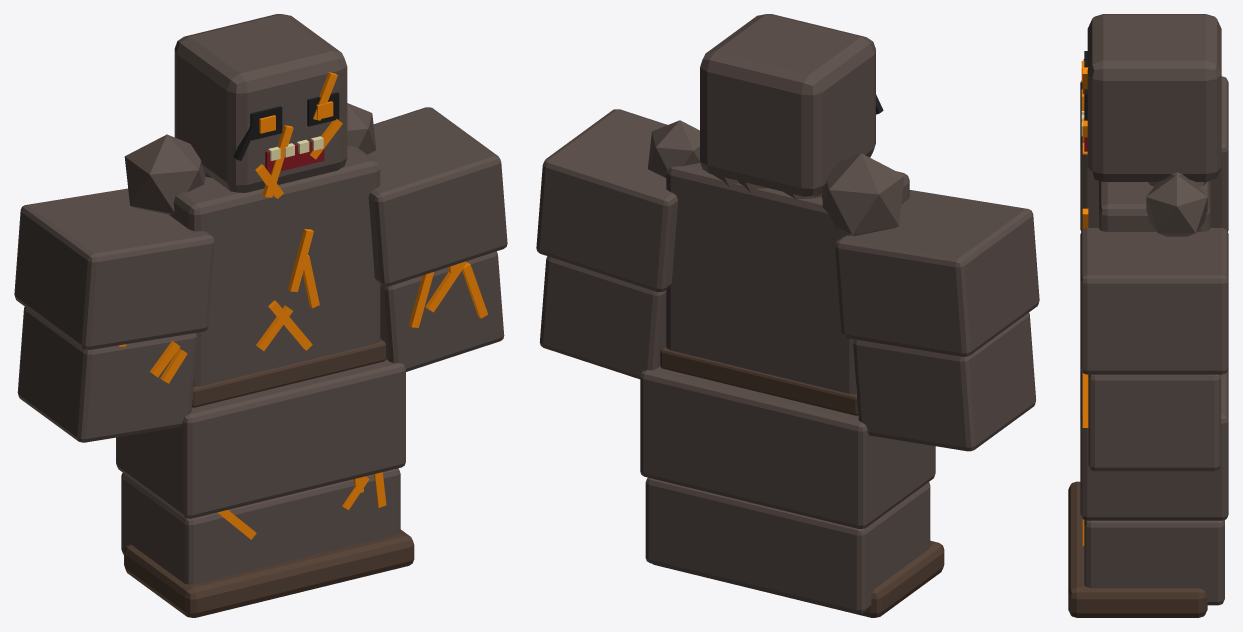
File: golem_lava.obj
3 renders of one model, left to right at view 1: azimuth 30°, elevation 25°; view 2: azimuth 150°, elevation 25°; view 3: azimuth 270°, elevation 25°, orthographic. The views are drawn at different scales.
Visible parts, largest first — view 1: Torso, LeftArm, LeftLeg, RightArm, Head, RightLeg; view 2: Torso, LeftArm, LeftLeg, RightArm, Head, RightLeg; view 3: RightArm, RightLeg, Head, Torso, LeftArm, LeftLeg.
Boxes of the visible parts, box(x1,y1,x2,y2) form: Torso: box(124, 103, 385, 407); LeftArm: box(14, 188, 214, 442); LeftLeg: box(116, 387, 314, 617); RightArm: box(367, 107, 507, 371); Head: box(174, 14, 347, 198); RightLeg: box(279, 359, 414, 588); Torso: box(648, 120, 909, 415); LeftArm: box(835, 190, 1039, 451); LeftLeg: box(740, 395, 944, 617); RightArm: box(536, 109, 677, 379); Head: box(700, 14, 883, 196); RightLeg: box(640, 366, 773, 593); RightArm: box(1080, 228, 1228, 471); RightLeg: box(1068, 369, 1228, 617); Head: box(1081, 14, 1221, 181); Torso: box(1082, 172, 1210, 236); LeftArm: box(1080, 76, 1228, 231); LeftLeg: box(1068, 369, 1082, 546).
Bounding box in the file's own units: 8.06 × 9.4 × 2.59.
Materials: 1 (1 with a texture image).
